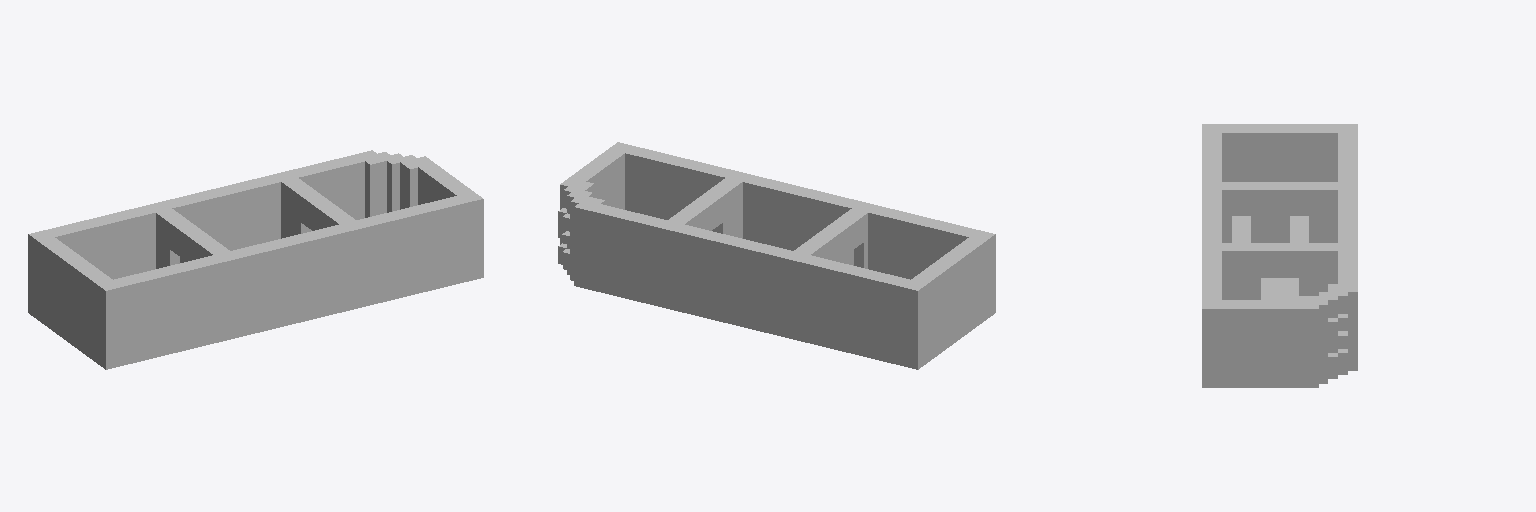
The picture shows the model from 3 angles: view 1: azimuth 30°, elevation 25°; view 2: azimuth 150°, elevation 25°; view 3: azimuth 270°, elevation 25°; orthographic projection.
Size of the model in its own units: 10.23 by 2.05 by 3.64.